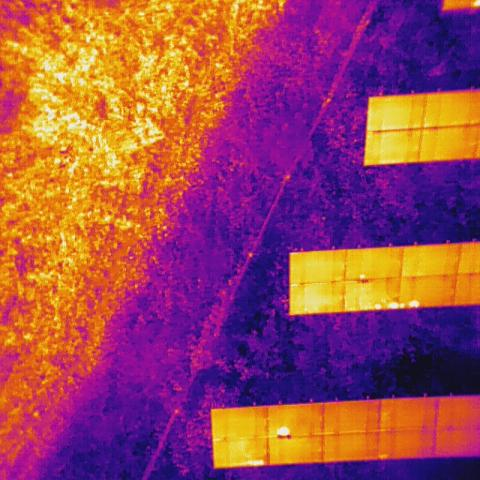fault: (275, 424, 292, 437), (406, 298, 424, 310), (240, 458, 264, 466), (387, 298, 397, 312), (374, 301, 382, 311), (358, 271, 365, 282), (398, 302, 406, 310)
